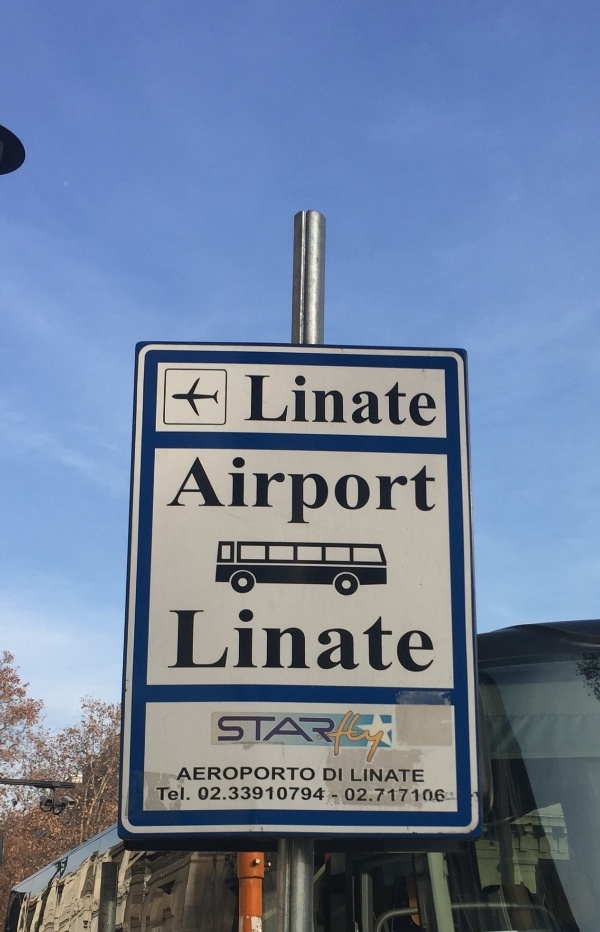text: (209, 453, 224, 531), (225, 453, 240, 531), (241, 453, 256, 531), (257, 453, 272, 531), (273, 453, 288, 531), (289, 453, 304, 531), (305, 453, 320, 531), (321, 453, 336, 531), (337, 453, 352, 531), (353, 453, 368, 531), (369, 453, 384, 531), (385, 453, 400, 531), (401, 453, 416, 531), (417, 453, 432, 531), (177, 603, 192, 677), (193, 603, 208, 677), (209, 603, 224, 677), (225, 603, 240, 677), (241, 603, 256, 677), (257, 603, 272, 677), (273, 603, 288, 677), (289, 603, 304, 677), (305, 603, 320, 677), (321, 603, 336, 677), (337, 603, 352, 677), (353, 603, 368, 677), (369, 603, 384, 677), (385, 603, 400, 677), (401, 603, 416, 677), (417, 603, 432, 677), (196, 453, 208, 531), (257, 374, 272, 432), (273, 374, 288, 432), (289, 374, 304, 432), (305, 374, 320, 432), (321, 374, 336, 432), (337, 374, 352, 432), (353, 374, 368, 432), (369, 374, 384, 432), (385, 374, 400, 432), (401, 374, 416, 432), (417, 374, 432, 432), (321, 713, 336, 766), (337, 713, 352, 766), (353, 713, 368, 766), (369, 713, 384, 766), (244, 374, 256, 432), (169, 603, 176, 677), (225, 716, 240, 749), (241, 716, 256, 749), (257, 716, 272, 749), (273, 716, 288, 749), (289, 716, 304, 749), (305, 716, 320, 749), (321, 716, 336, 749), (385, 713, 391, 766), (433, 453, 437, 531), (433, 374, 438, 432), (161, 786, 176, 803), (209, 786, 224, 803), (225, 786, 240, 803), (241, 786, 256, 803), (257, 786, 272, 803), (273, 786, 288, 803), (289, 786, 304, 803), (305, 786, 320, 803), (177, 786, 191, 803), (217, 716, 224, 749), (193, 767, 208, 782), (209, 767, 224, 782), (225, 767, 240, 782), (241, 767, 256, 782), (257, 767, 272, 782), (273, 767, 288, 782), (289, 767, 304, 782), (353, 769, 368, 784), (369, 769, 384, 784), (385, 769, 400, 784), (401, 769, 416, 784), (353, 788, 368, 803), (369, 788, 384, 803), (385, 788, 400, 803), (401, 788, 416, 803), (417, 788, 432, 803), (433, 603, 436, 677), (323, 767, 336, 783), (433, 788, 445, 803), (198, 786, 208, 803), (305, 767, 316, 782), (182, 767, 192, 782), (417, 769, 425, 784), (318, 713, 320, 766), (345, 788, 352, 803), (337, 767, 343, 783), (156, 786, 160, 803), (321, 786, 325, 803), (332, 795, 336, 800), (351, 769, 352, 784), (337, 795, 338, 800)
